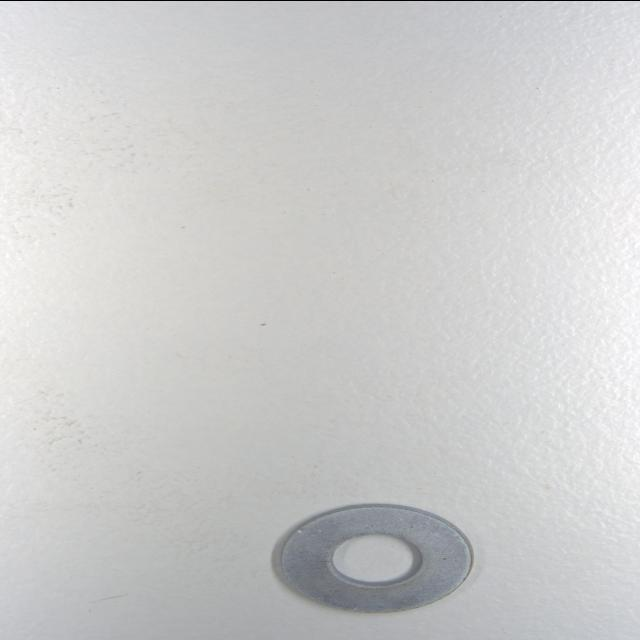washer: (277, 502, 477, 614)
